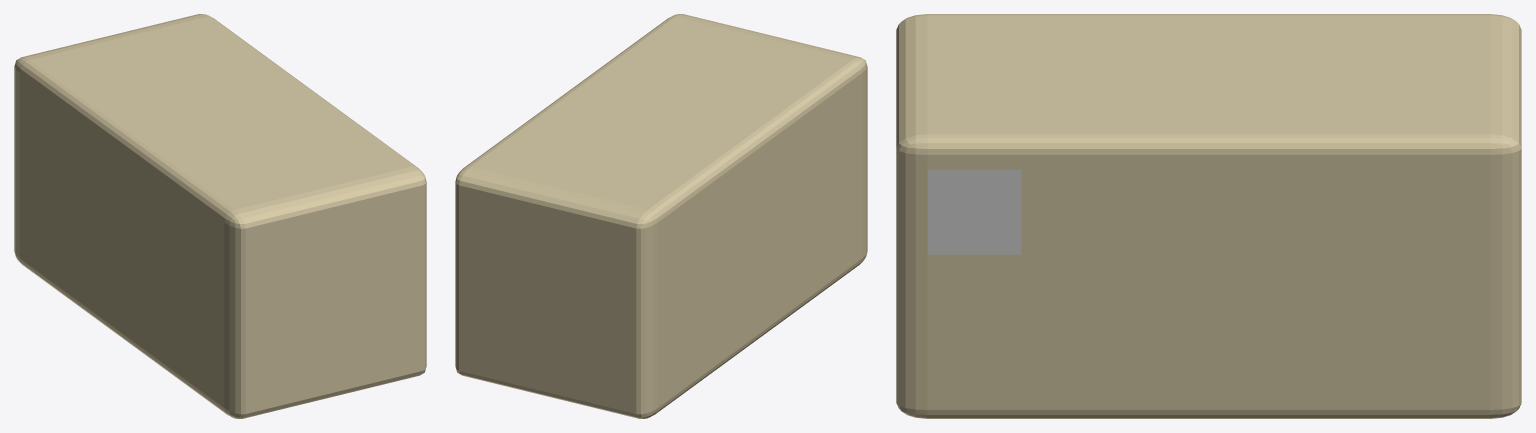
File: Trans.dae
The picture shows the model from 3 angles, left to right: view 1: azimuth 30°, elevation 25°; view 2: azimuth 150°, elevation 25°; view 3: azimuth 270°, elevation 25°; orthographic projection. The views are drawn at different scales.
Visible parts, largest first — view 1: Cube; view 2: Cube; view 3: Cube, Plane.
Part boxes in pixels (<box>): Cube: <box>14,14,426,418</box>; Cube: <box>455,14,867,418</box>; Cube: <box>896,14,1521,418</box>; Plane: <box>927,169,1021,254</box>.
Size of the model in its own units: 1 by 2 by 1.
